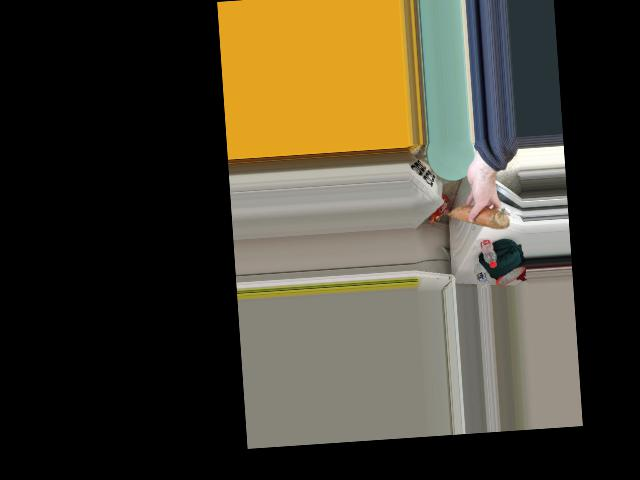sweet_potato: (445, 206, 509, 228)
